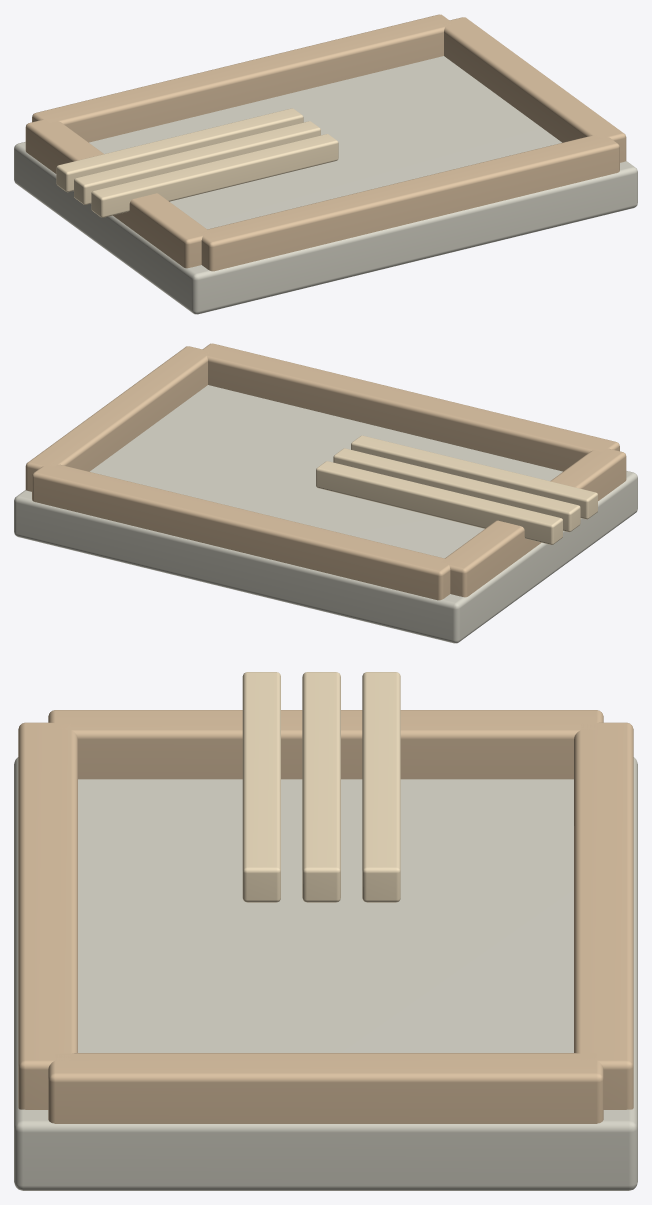
The model's file is water-point-foundation.glb.
The picture shows the model from 3 angles, top to bottom: view 1: azimuth 30°, elevation 25°; view 2: azimuth 150°, elevation 25°; view 3: azimuth 270°, elevation 25°; orthographic projection. The views are drawn at different scales.
Parts seen in each view (by area): view 1: Rounded stone footing.012, Sill beam.048, Sill beam.049, Sill beam.051, Staged lumber.009, Sill beam.050, Staged lumber.011, Staged lumber.010; view 2: Rounded stone footing.012, Sill beam.049, Sill beam.048, Sill beam.051, Staged lumber.011, Sill beam.050, Staged lumber.010, Staged lumber.009; view 3: Rounded stone footing.012, Sill beam.051, Sill beam.050, Sill beam.049, Sill beam.048, Staged lumber.011, Staged lumber.009, Staged lumber.010.
Part boxes in pixels (x1=…): Rounded stone footing.012: x1=14, y1=56, x2=637, y2=314; Sill beam.048: x1=199, y1=135, x2=619, y2=271; Sill beam.049: x1=32, y1=14, x2=452, y2=142; Sill beam.051: x1=442, y1=17, x2=626, y2=162; Staged lumber.009: x1=91, y1=134, x2=338, y2=217; Sill beam.050: x1=25, y1=119, x2=210, y2=268; Staged lumber.011: x1=56, y1=108, x2=303, y2=192; Staged lumber.010: x1=74, y1=121, x2=320, y2=204; Rounded stone footing.012: x1=14, y1=385, x2=637, y2=643; Sill beam.049: x1=32, y1=463, x2=452, y2=600; Sill beam.048: x1=199, y1=343, x2=619, y2=471; Sill beam.051: x1=25, y1=346, x2=210, y2=491; Staged lumber.011: x1=316, y1=461, x2=562, y2=544; Sill beam.050: x1=441, y1=448, x2=626, y2=597; Staged lumber.010: x1=333, y1=448, x2=580, y2=532; Staged lumber.009: x1=351, y1=435, x2=597, y2=519; Rounded stone footing.012: x1=14, y1=757, x2=637, y2=1190; Sill beam.051: x1=48, y1=1053, x2=603, y2=1123; Sill beam.050: x1=48, y1=710, x2=603, y2=779; Sill beam.049: x1=574, y1=722, x2=633, y2=1109; Sill beam.048: x1=18, y1=722, x2=77, y2=1109; Staged lumber.011: x1=362, y1=672, x2=400, y2=902; Staged lumber.009: x1=242, y1=672, x2=280, y2=902; Staged lumber.010: x1=302, y1=672, x2=340, y2=902.
Size of the model in its own units: 2.18 by 0.335 by 1.46.
